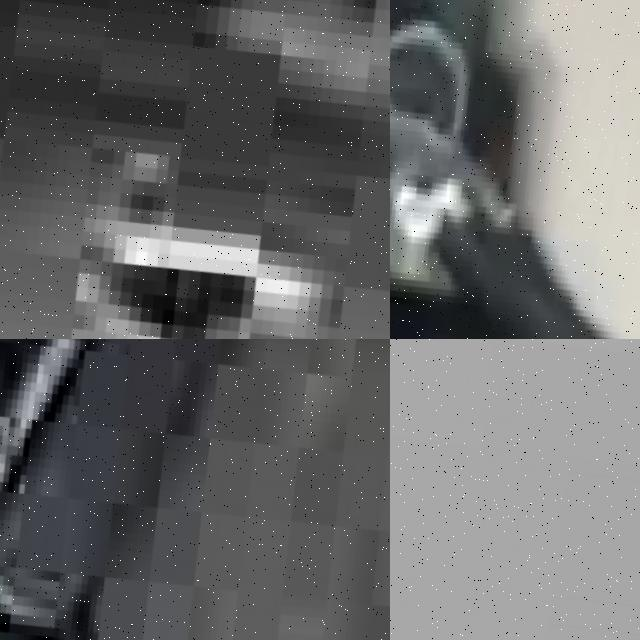drone: (0, 0, 390, 339), (0, 339, 390, 640), (390, 0, 640, 339)
